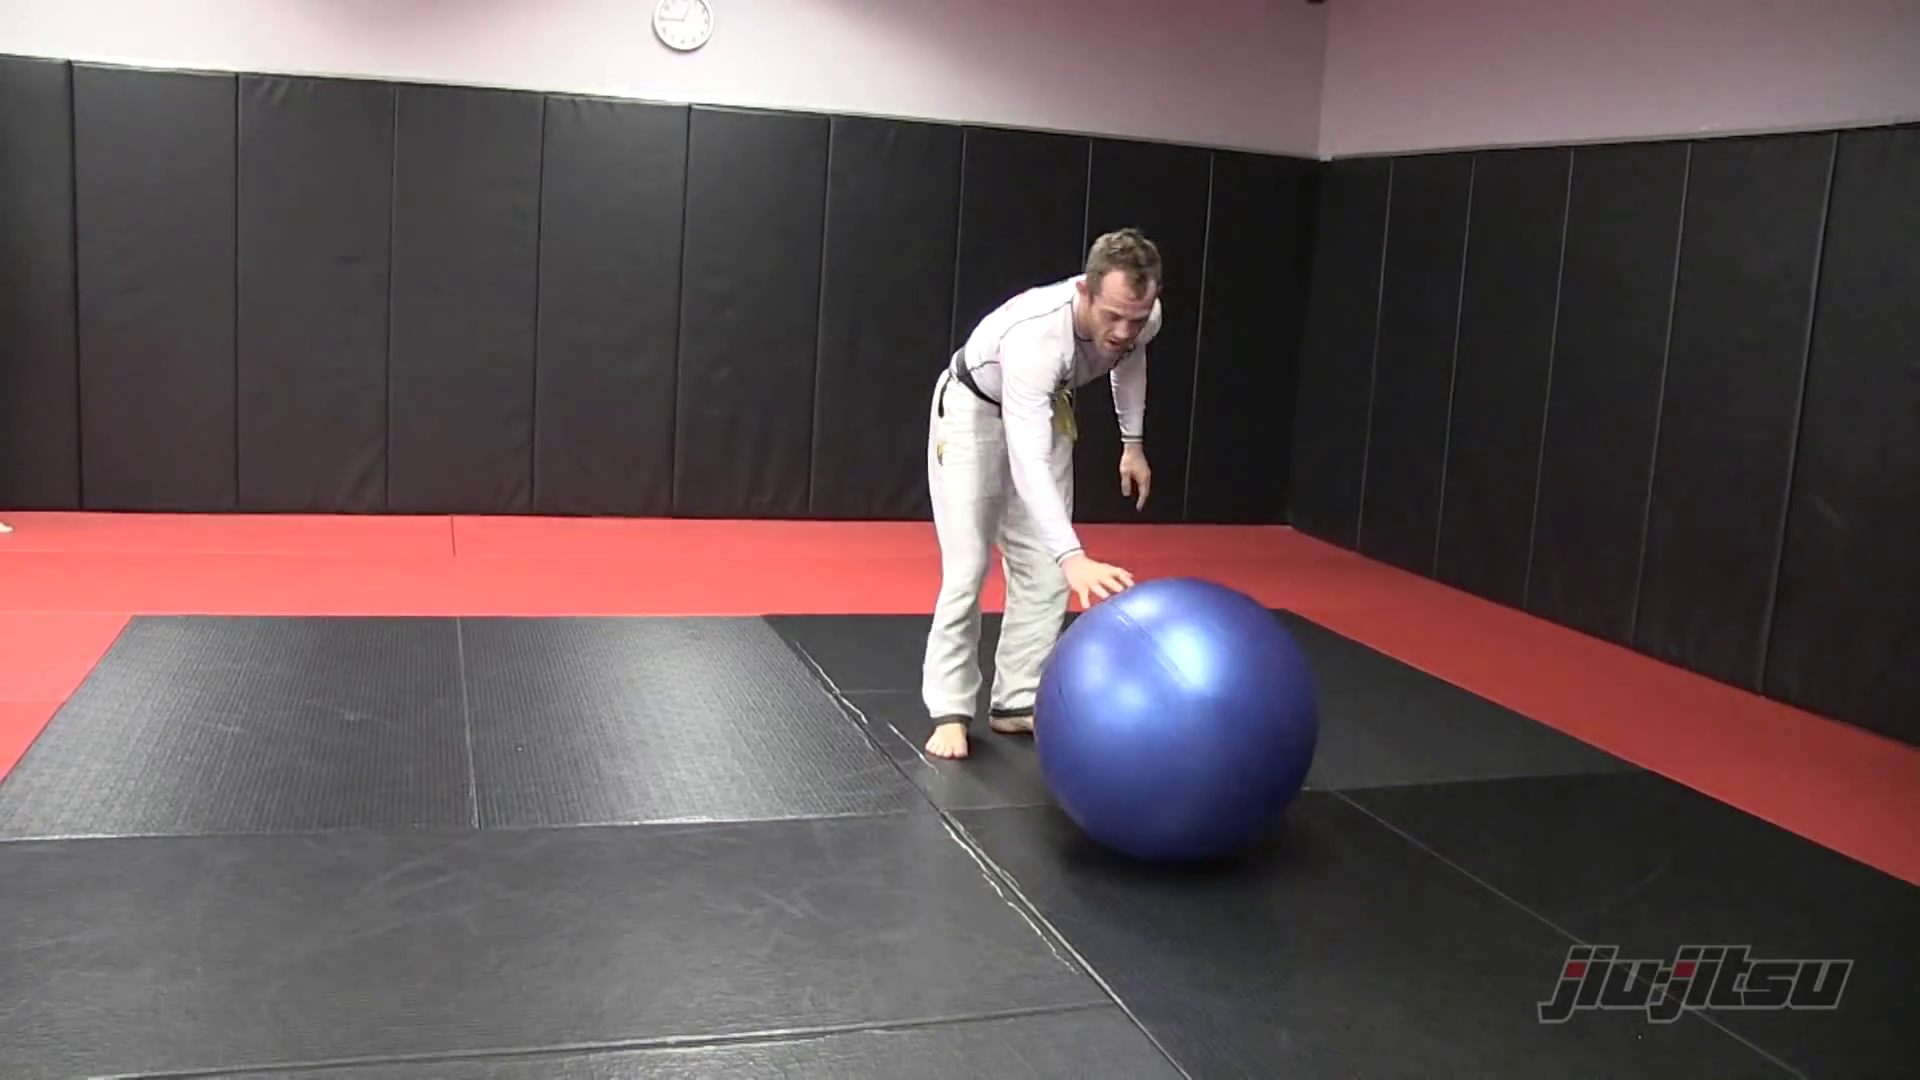yogaball: (1030, 564, 1342, 895)
